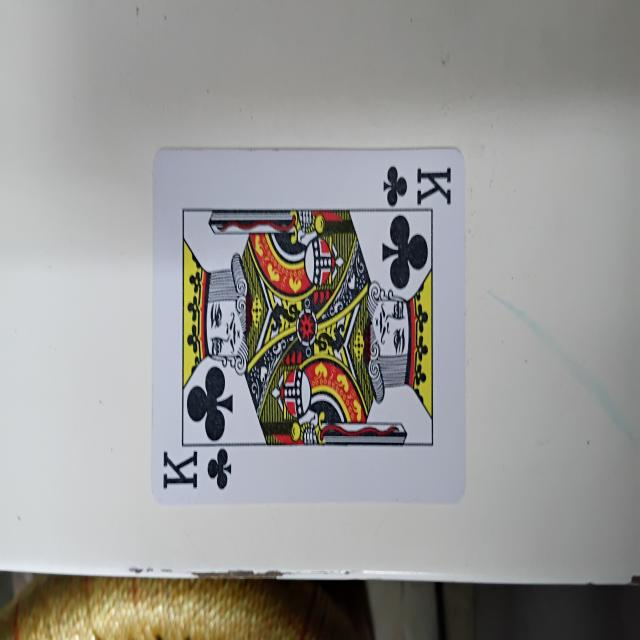KC: (152, 138, 470, 506)
